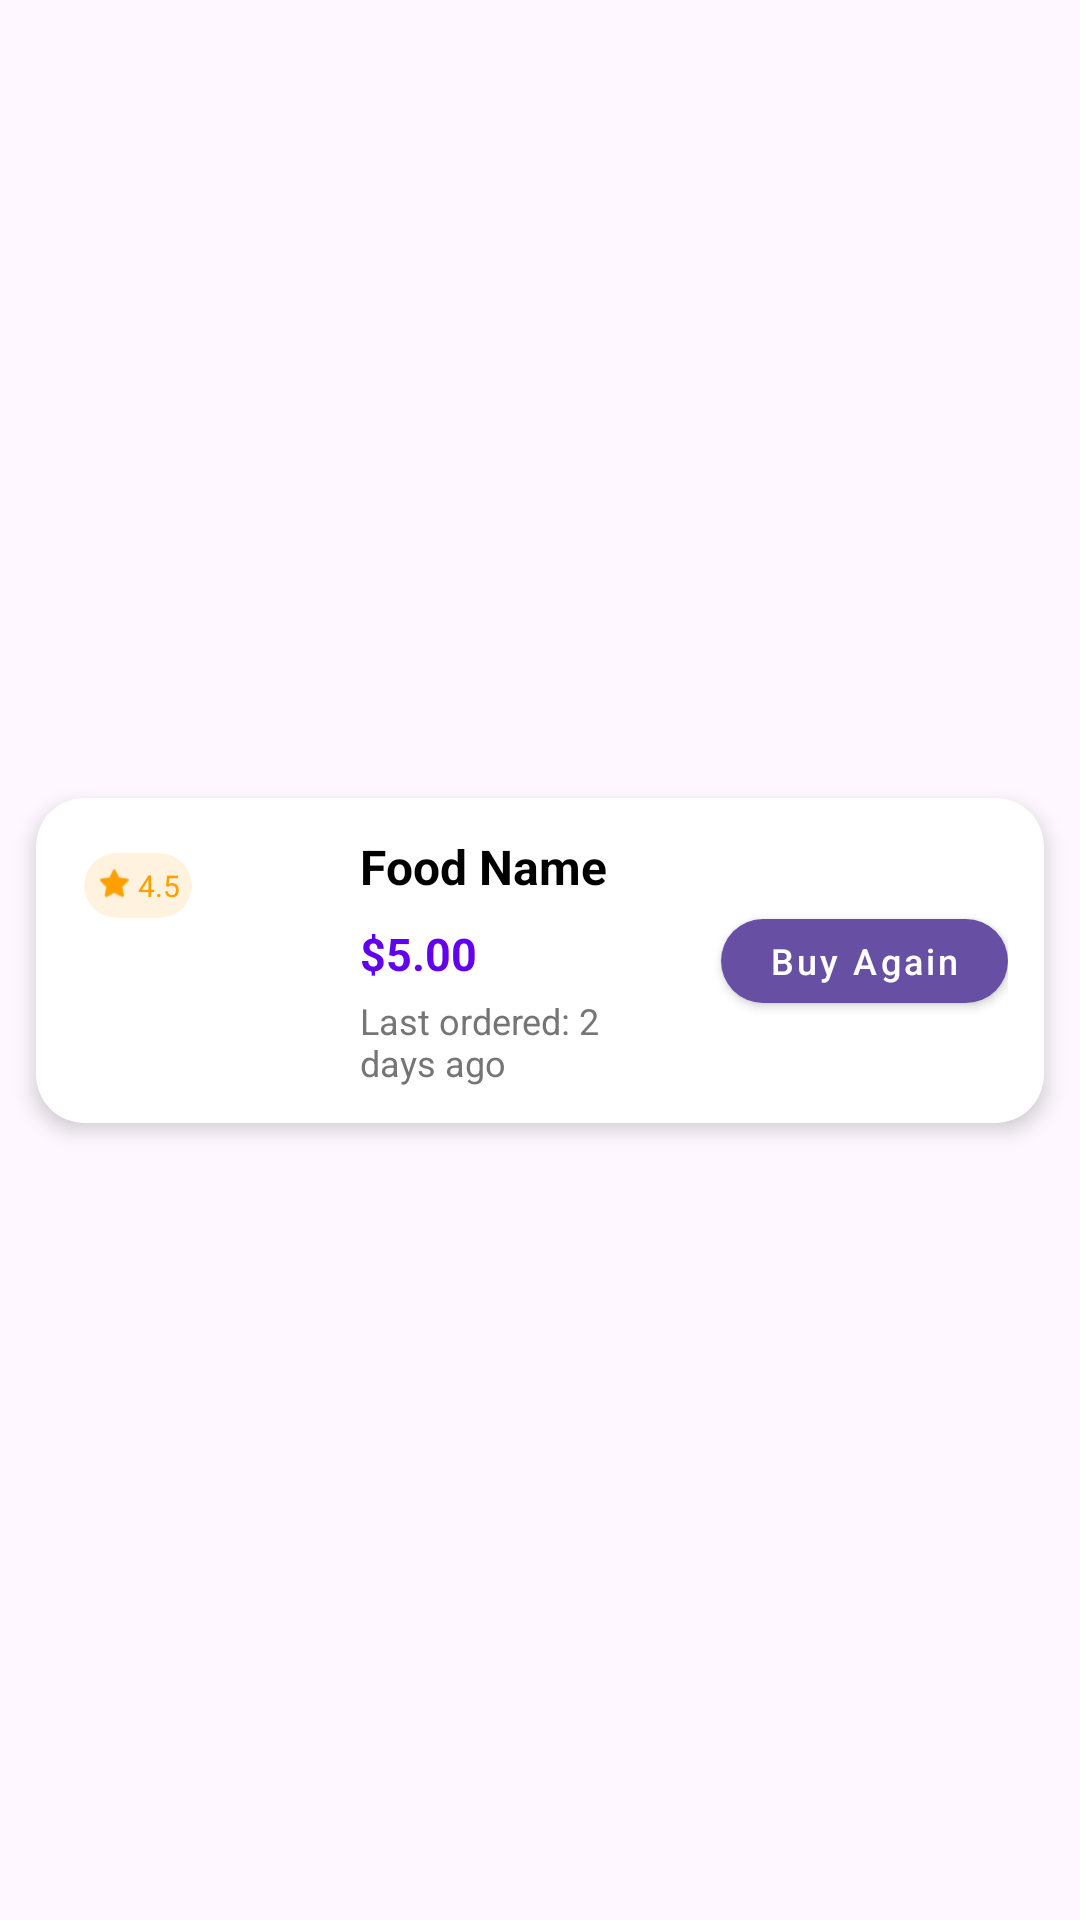

Icons on this 1080px x 1920px Android screen, each with its box as (x1, y1, x2, y2):
star on: (99, 869, 129, 898)
